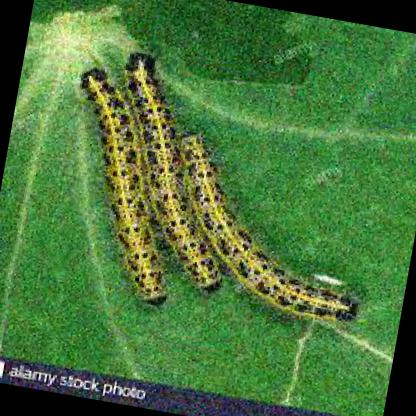pieris: (177, 133, 359, 328), (126, 46, 225, 295), (80, 46, 165, 308)
